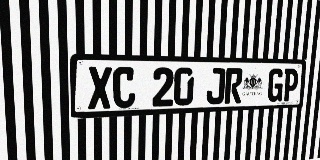0: (173, 67, 194, 106)
2: (152, 67, 174, 107)
C: (113, 67, 136, 108)
G: (267, 68, 284, 102)
J: (206, 68, 226, 104)
P: (282, 69, 299, 101)
R: (224, 68, 243, 104)
X: (88, 66, 112, 109)
